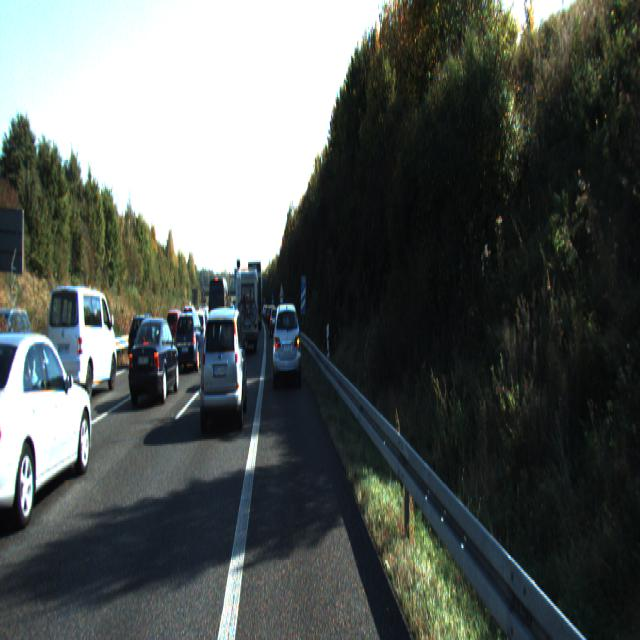Car: (0, 324, 96, 547), (44, 282, 118, 406), (198, 305, 248, 435), (0, 321, 43, 460), (128, 314, 180, 408), (273, 301, 302, 388), (174, 313, 205, 376), (235, 268, 258, 352), (128, 315, 160, 371), (208, 279, 230, 352), (248, 264, 262, 332)
